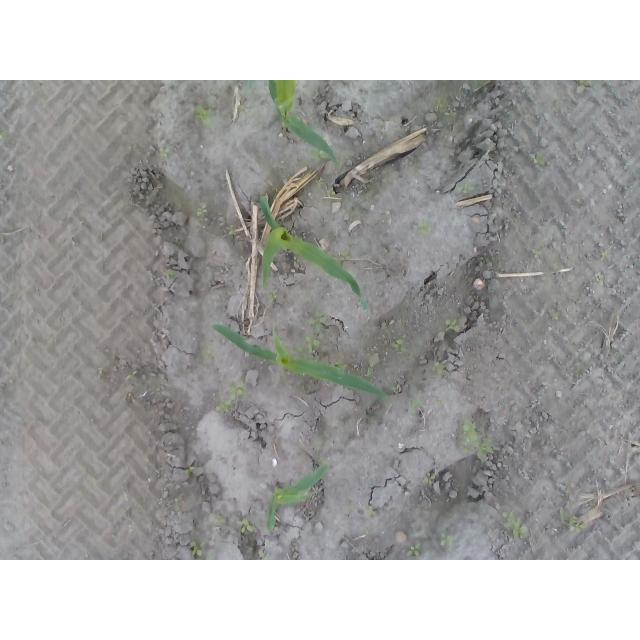Maize: (211, 322, 389, 401), (258, 192, 370, 314), (266, 80, 338, 172), (266, 463, 334, 531)
Weeds: (460, 420, 494, 456), (214, 381, 246, 414), (501, 512, 531, 541), (294, 333, 322, 355), (196, 105, 216, 128), (562, 511, 587, 529), (435, 98, 457, 118), (303, 313, 321, 333), (391, 337, 410, 355), (238, 517, 254, 535), (190, 540, 205, 558), (415, 222, 433, 237), (406, 542, 422, 558), (407, 398, 422, 415), (531, 151, 546, 166), (576, 80, 593, 93), (364, 506, 379, 520), (421, 473, 435, 488), (439, 533, 453, 546), (433, 359, 446, 373), (183, 464, 198, 476), (455, 183, 475, 192), (480, 255, 496, 266), (312, 146, 325, 159), (158, 146, 171, 159), (164, 271, 177, 283), (194, 206, 206, 219), (593, 272, 604, 286), (225, 223, 235, 238), (269, 290, 279, 303), (254, 552, 268, 561), (444, 320, 456, 330), (238, 105, 250, 113), (334, 361, 343, 371), (313, 176, 322, 184), (341, 255, 352, 261), (600, 249, 608, 257)
